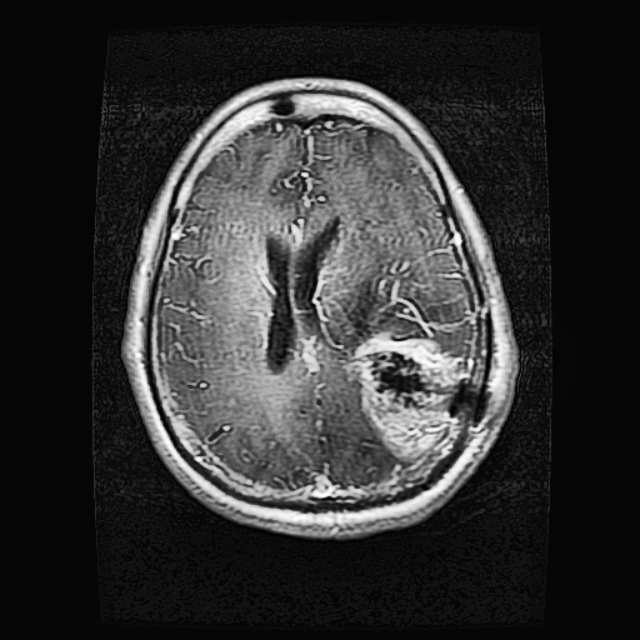Glioma: (349, 332, 468, 459)
